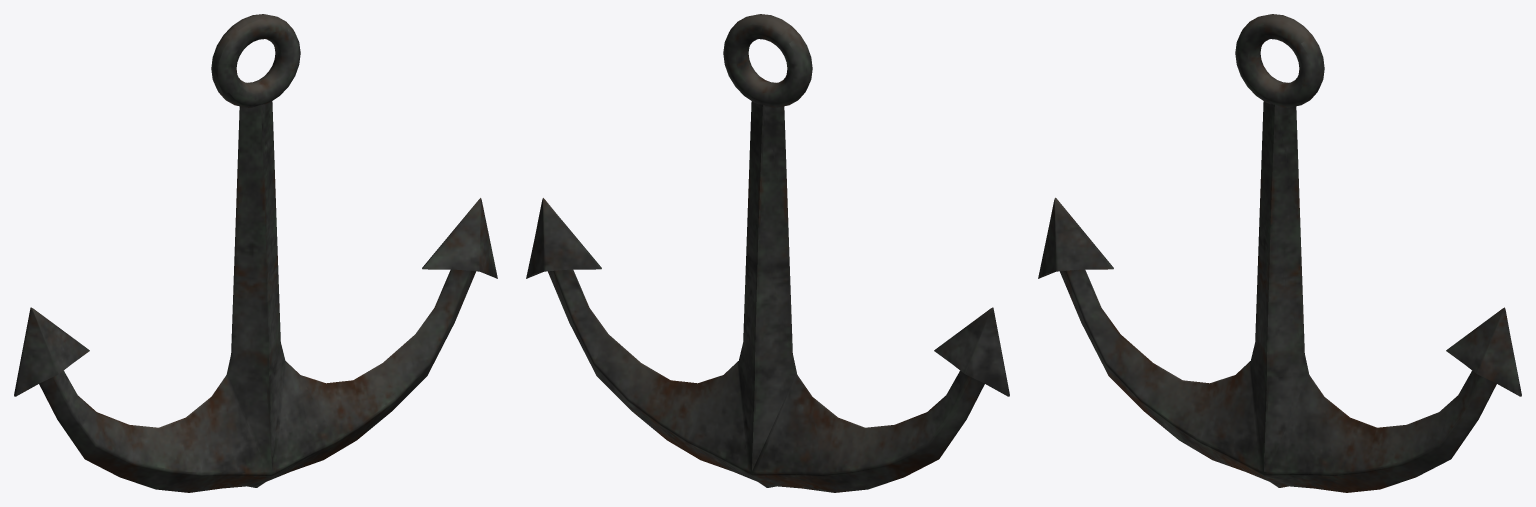
The model's file is anchor.glb.
The picture shows the model from 3 angles, left to right: view 1: azimuth 30°, elevation 25°; view 2: azimuth 150°, elevation 25°; view 3: azimuth 330°, elevation 25°; orthographic projection.
Parts seen in each view (by area): view 1: mesh; view 2: mesh; view 3: mesh.
Boxes of the visible parts, x1,y1,x2,y2 form: mesh: (14, 14, 497, 492); mesh: (526, 14, 1009, 492); mesh: (1038, 14, 1521, 492).
Bounding box in the file's own units: 1.31 × 1.23 × 0.1514.
1 material, 1 textured.
